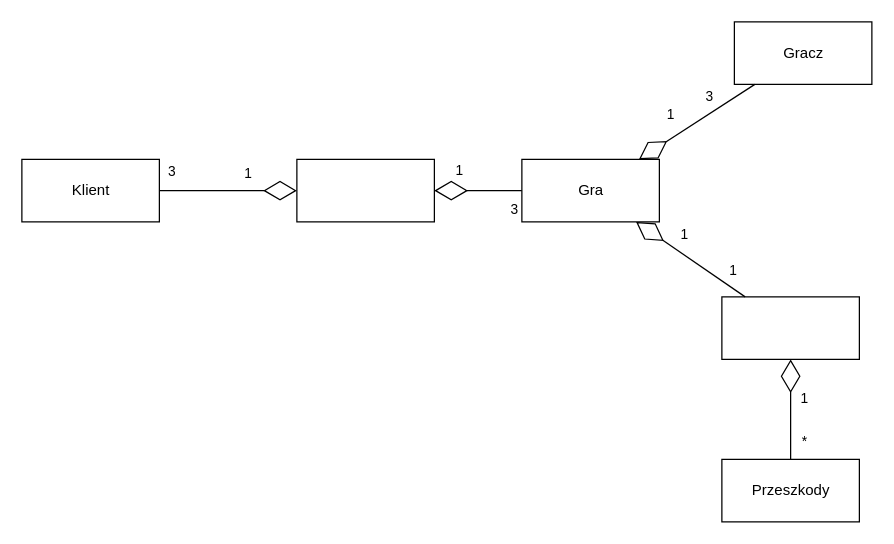
This 894x544 diagram has some shape labels left out. Here are the shapes that lost their labels. From the top down, the box of each, then its label:
(296, 158, 434, 222): Serwer
(721, 296, 859, 359): Mapa
